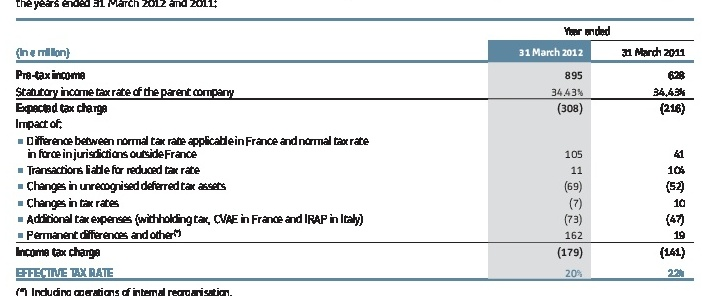table: (0, 0, 702, 296)
